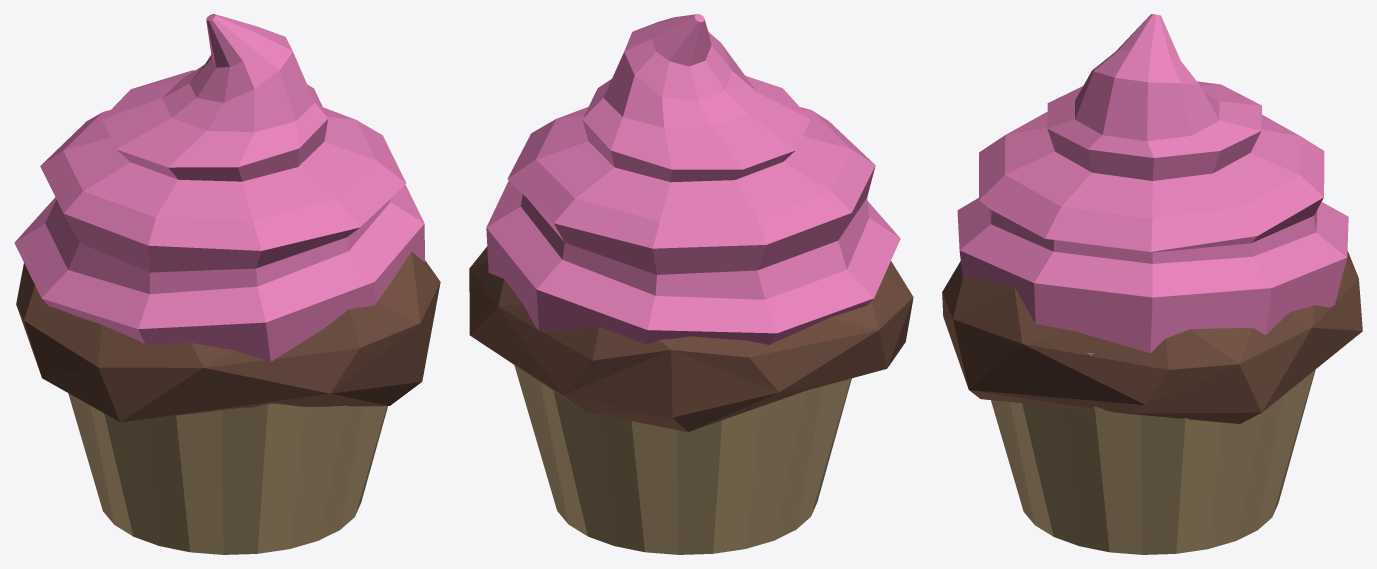
The model's file is cupcake.glb.
3 renders of one model, left to right at view 1: azimuth 30°, elevation 25°; view 2: azimuth 150°, elevation 25°; view 3: azimuth 270°, elevation 25°, orthographic. The views are drawn at different scales.
Visible parts, largest first — view 1: Cupcake; view 2: Cupcake; view 3: Cupcake.
Part boxes in pixels (x1,y1,x2,y2): Cupcake: [14, 14, 440, 554]; Cupcake: [469, 14, 913, 554]; Cupcake: [942, 14, 1362, 554].
Bounding box in the file's own units: 0.6435 × 0.7874 × 0.6257.
